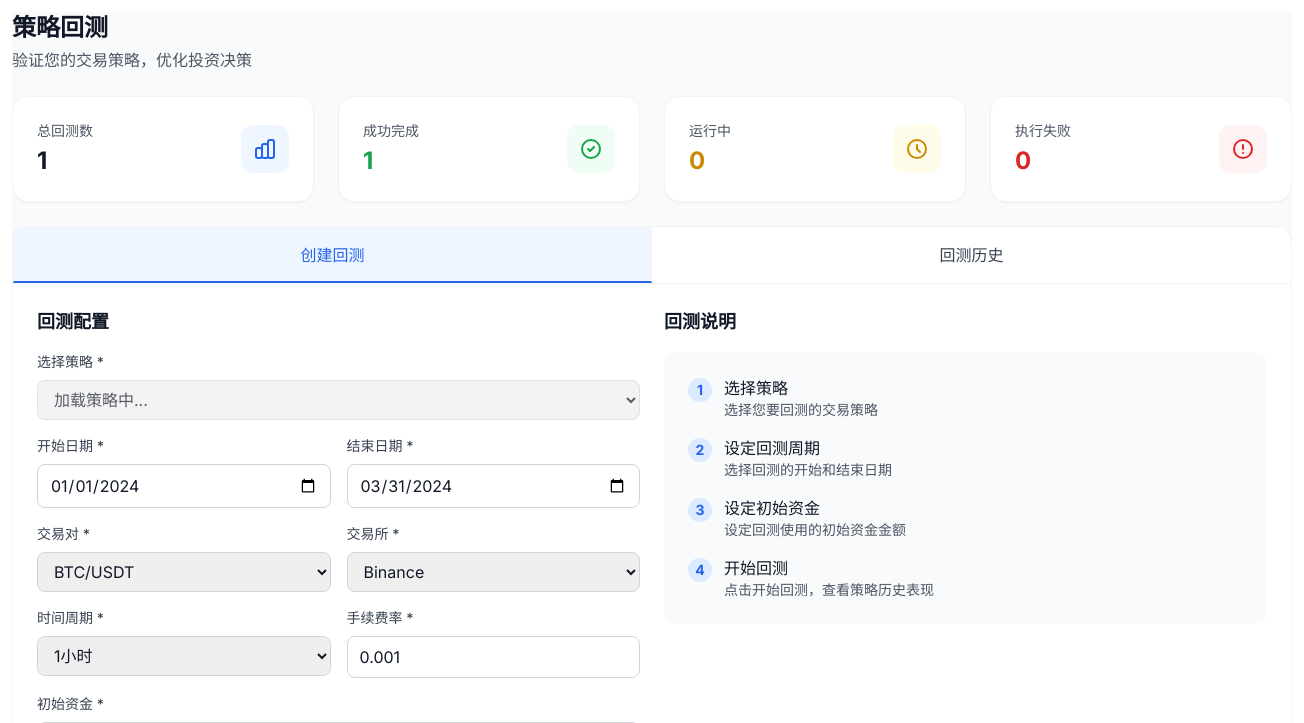
it: BacktestPage › Tab Navigation › switches back to create tab when clicked
Note: Switch to history first
Click the button "回测历史" at (972, 255), box left=652, top=227, right=1291, bottom=283
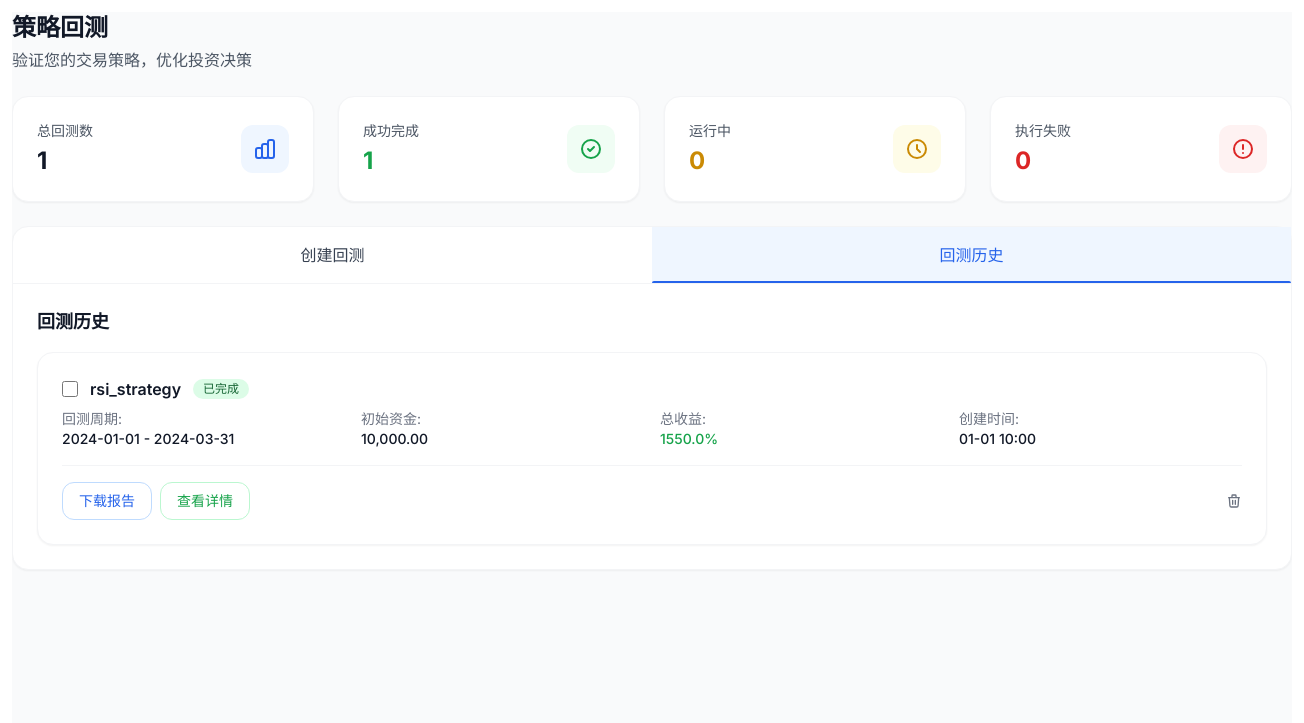
Note: Then back to create
Click the button "创建回测" at (332, 255), box left=13, top=227, right=652, bottom=283
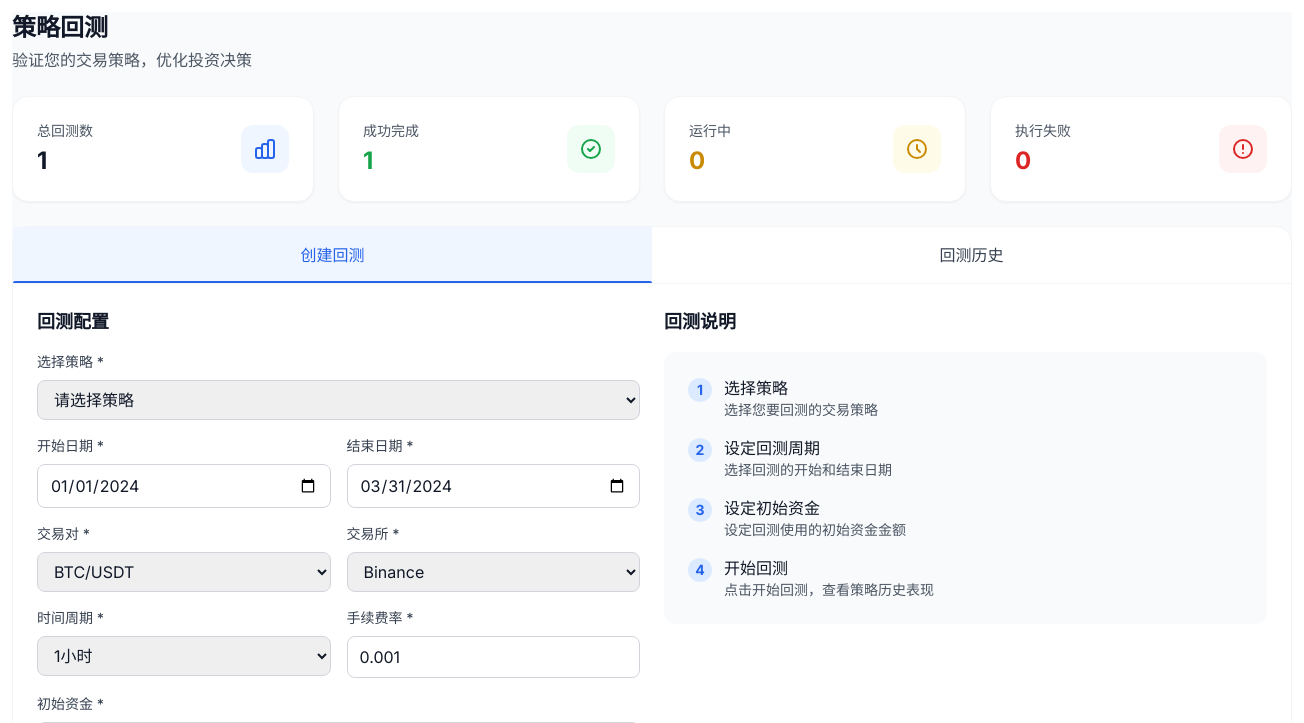
Check: the heading "回测配置" is shown, box left=37, top=311, right=109, bottom=332
